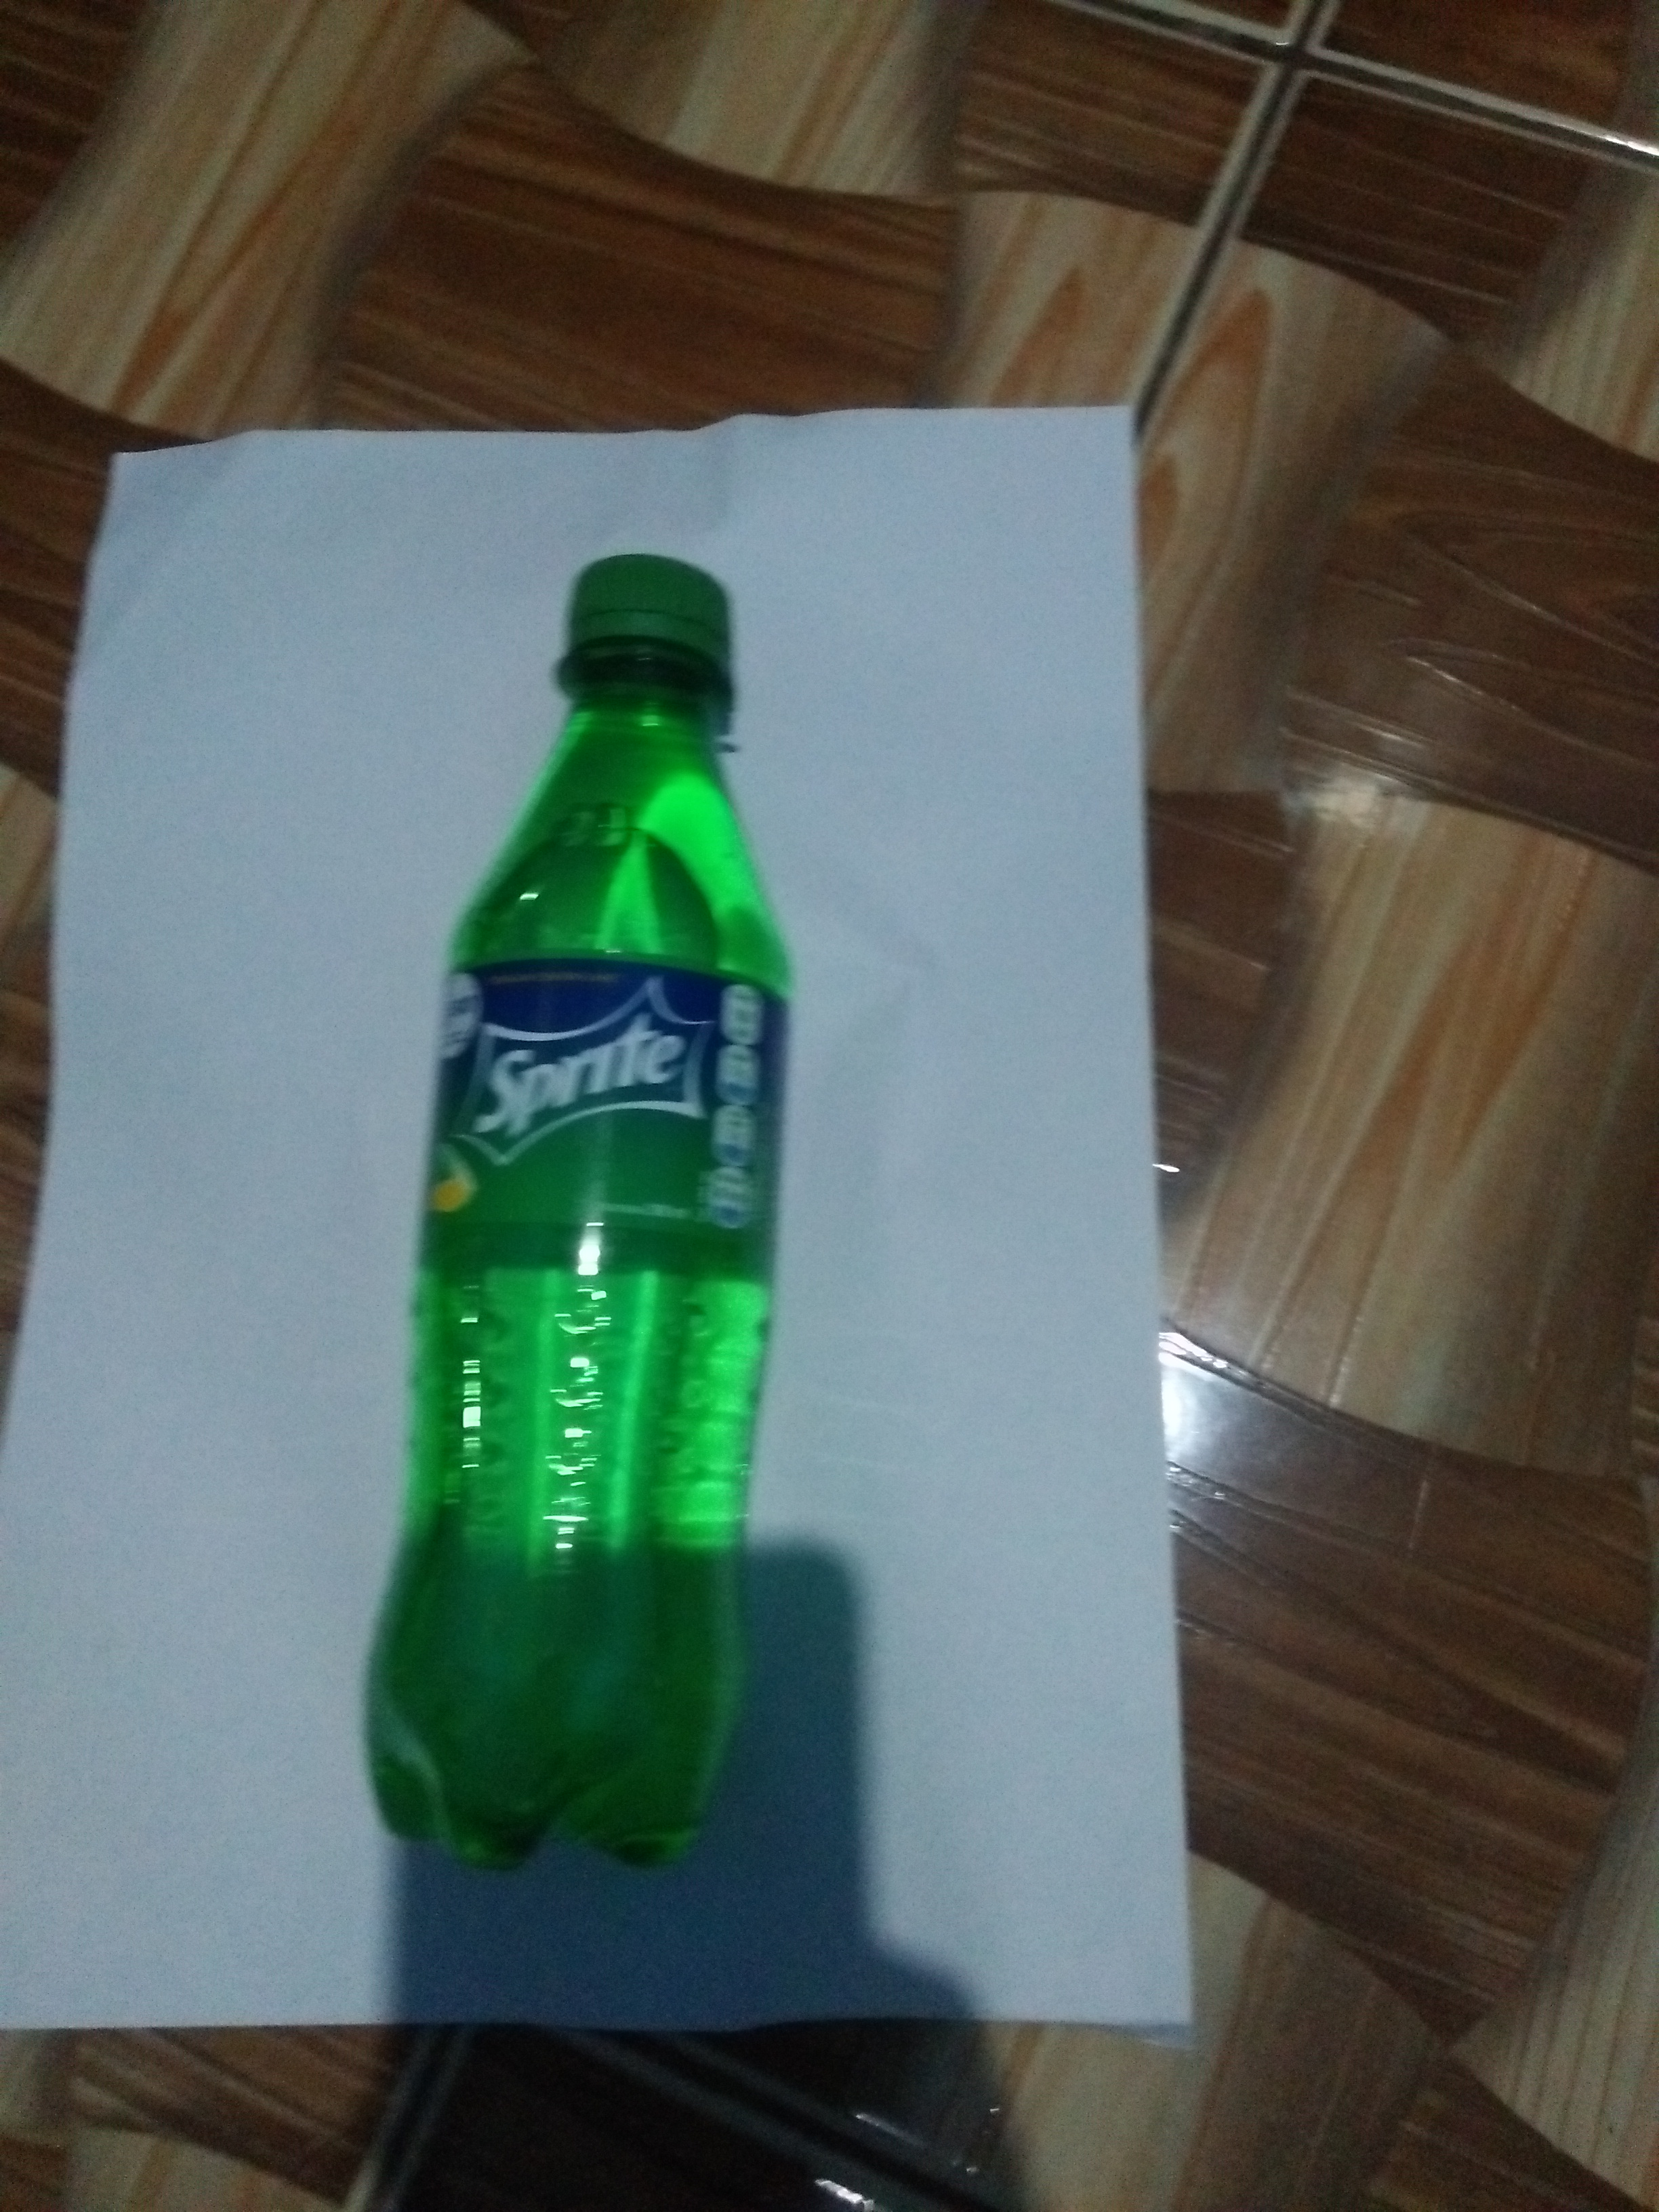Sprite: (375, 547, 817, 1871)
